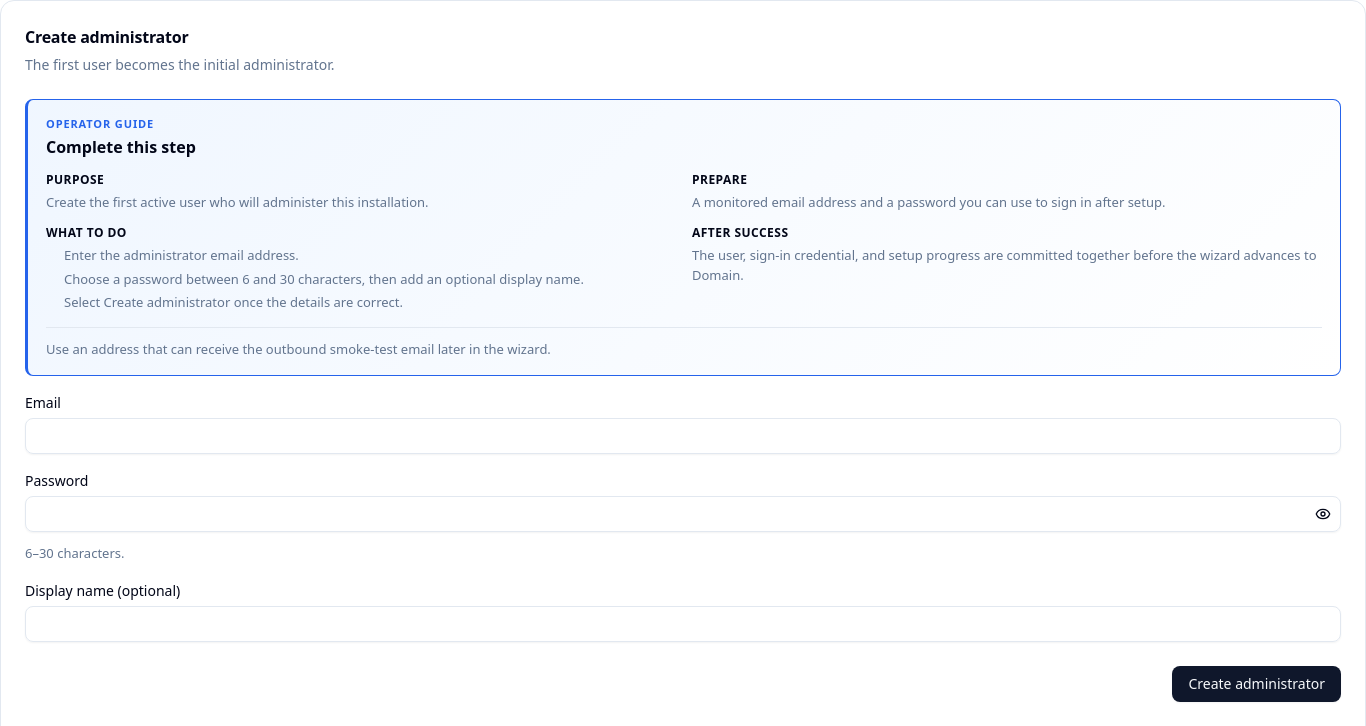
it: AdministratorStep › surfaces the machine code via ErrorPanel on 4xx (AC #15)
This screenshot has width=1366, height=726.
Step 1. Type "admin@example.com" into the field labelled "Email" → coordinates (683, 436), box x1=25 y1=418 x2=1341 y2=454
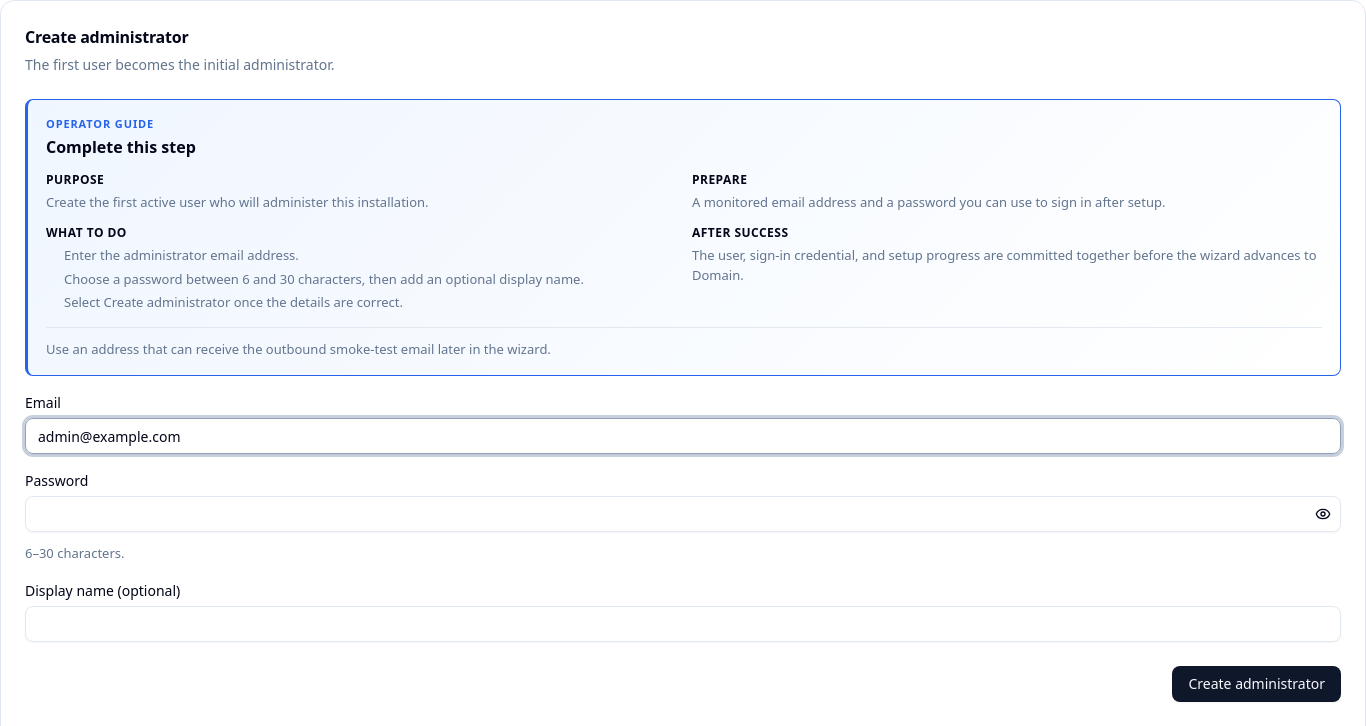
Step 2. Type "correct-horse-battery" into the password field labelled "Password" → coordinates (683, 514), box x1=25 y1=496 x2=1341 y2=532
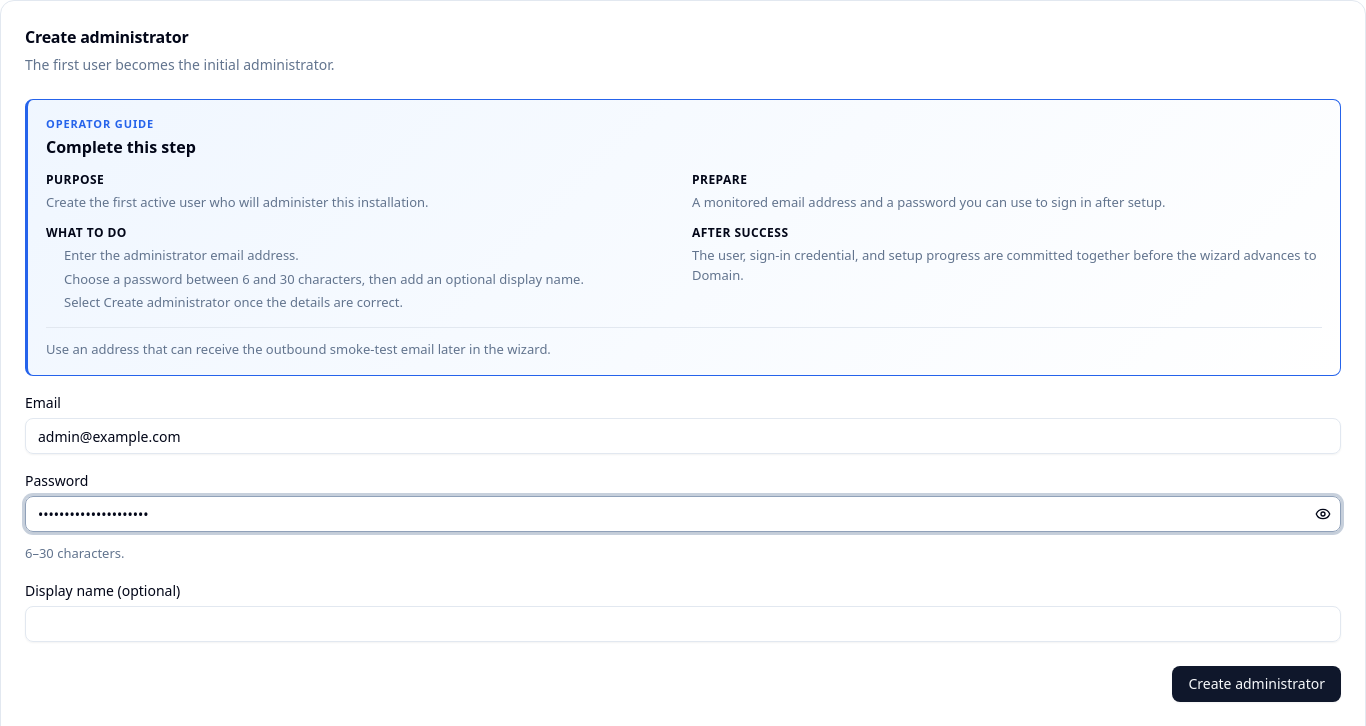
Step 3. Click the button with test id "administrator-submit" → coordinates (1257, 684), box x1=1172 y1=666 x2=1341 y2=702
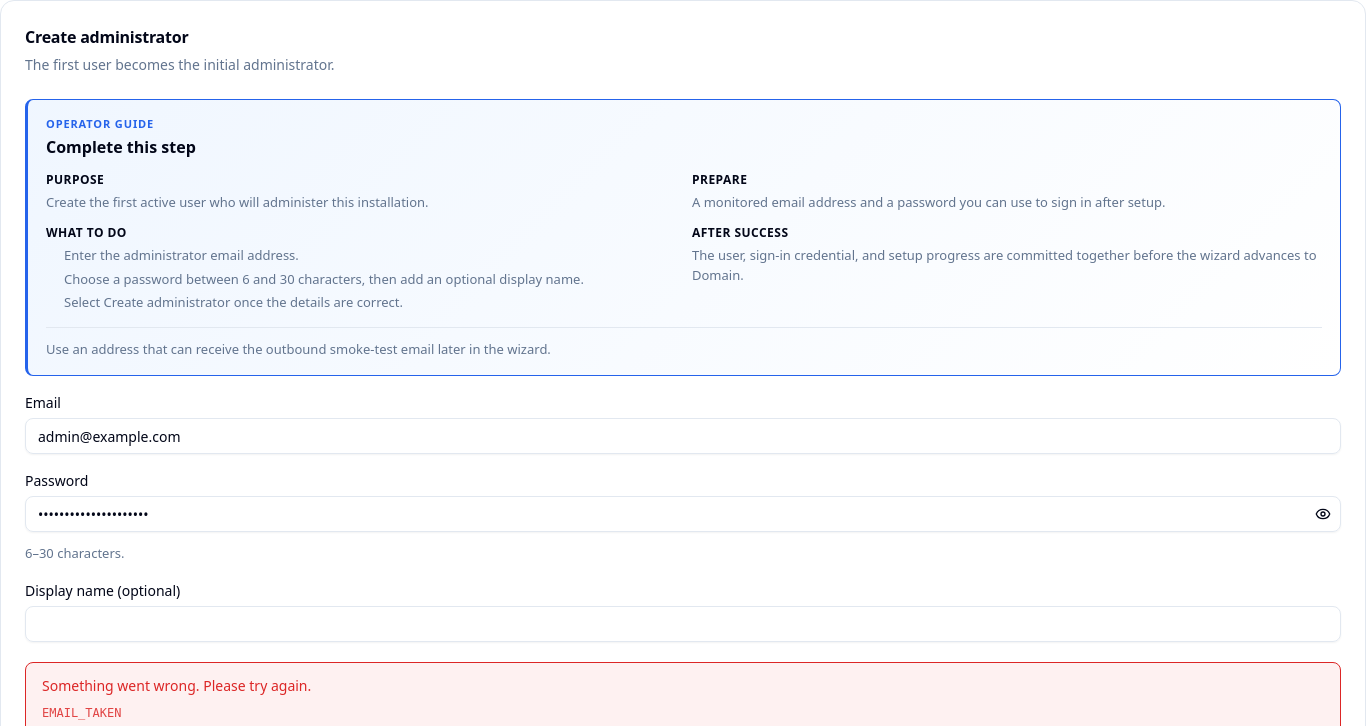
Now the text with test id "error-code" reads "EMAIL_TAKEN", box x1=42 y1=706 x2=122 y2=720
